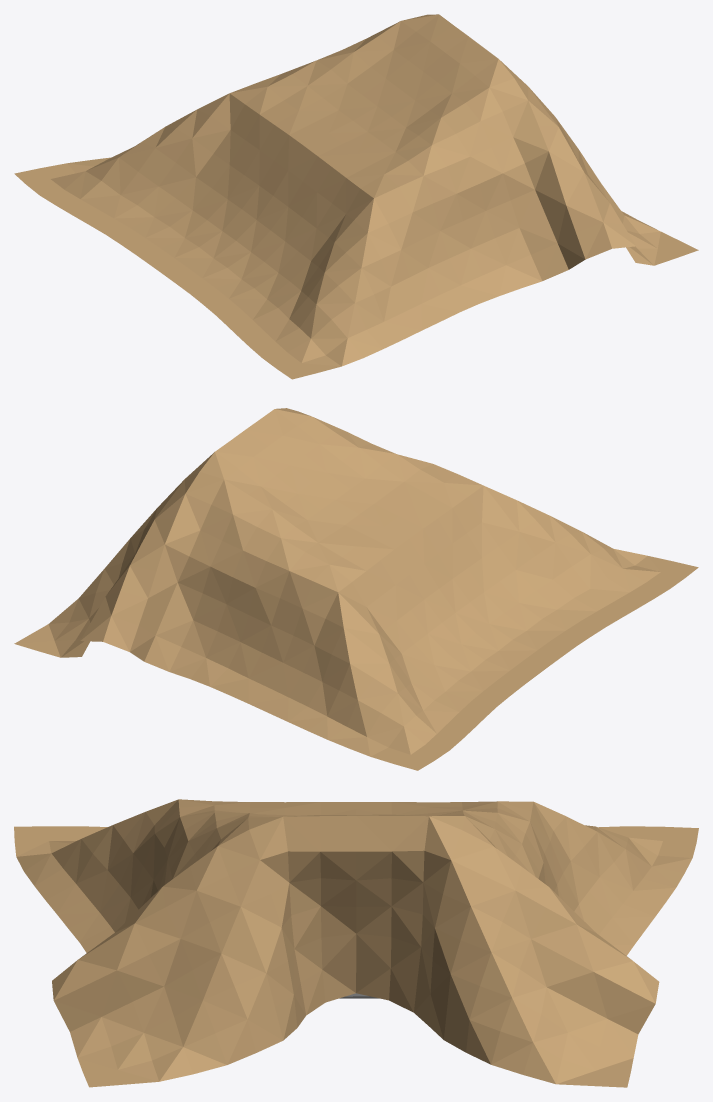
File: level_0.glb
3 renders of one model, top to bottom at view 1: azimuth 30°, elevation 25°; view 2: azimuth 150°, elevation 25°; view 3: azimuth 270°, elevation 25°, orthographic. The views are drawn at different scales.
Visible parts, largest first — view 1: world; view 2: world; view 3: world.
Part boxes in pixels (x1=…): world: x1=14, y1=14, x2=698, y2=379; world: x1=14, y1=408, x2=698, y2=770; world: x1=14, y1=799, x2=698, y2=1087.
Bounding box in the file's own units: 0.5461 × 0.1945 × 0.6048.
